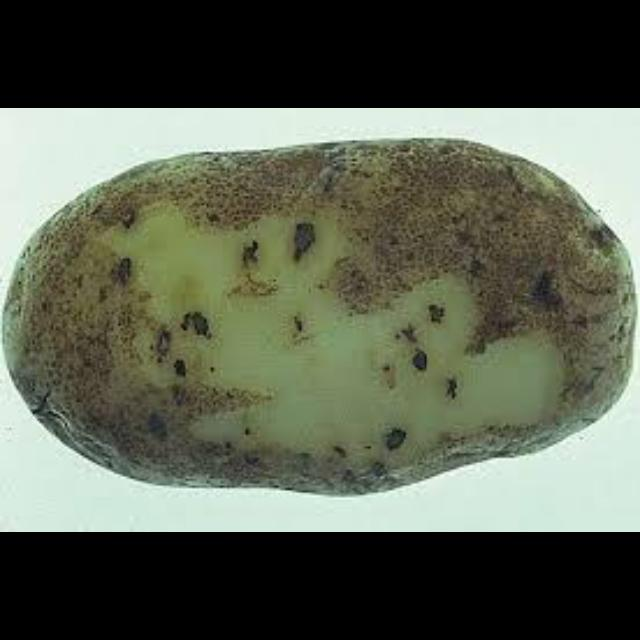Defected potato: (5, 136, 640, 498)
